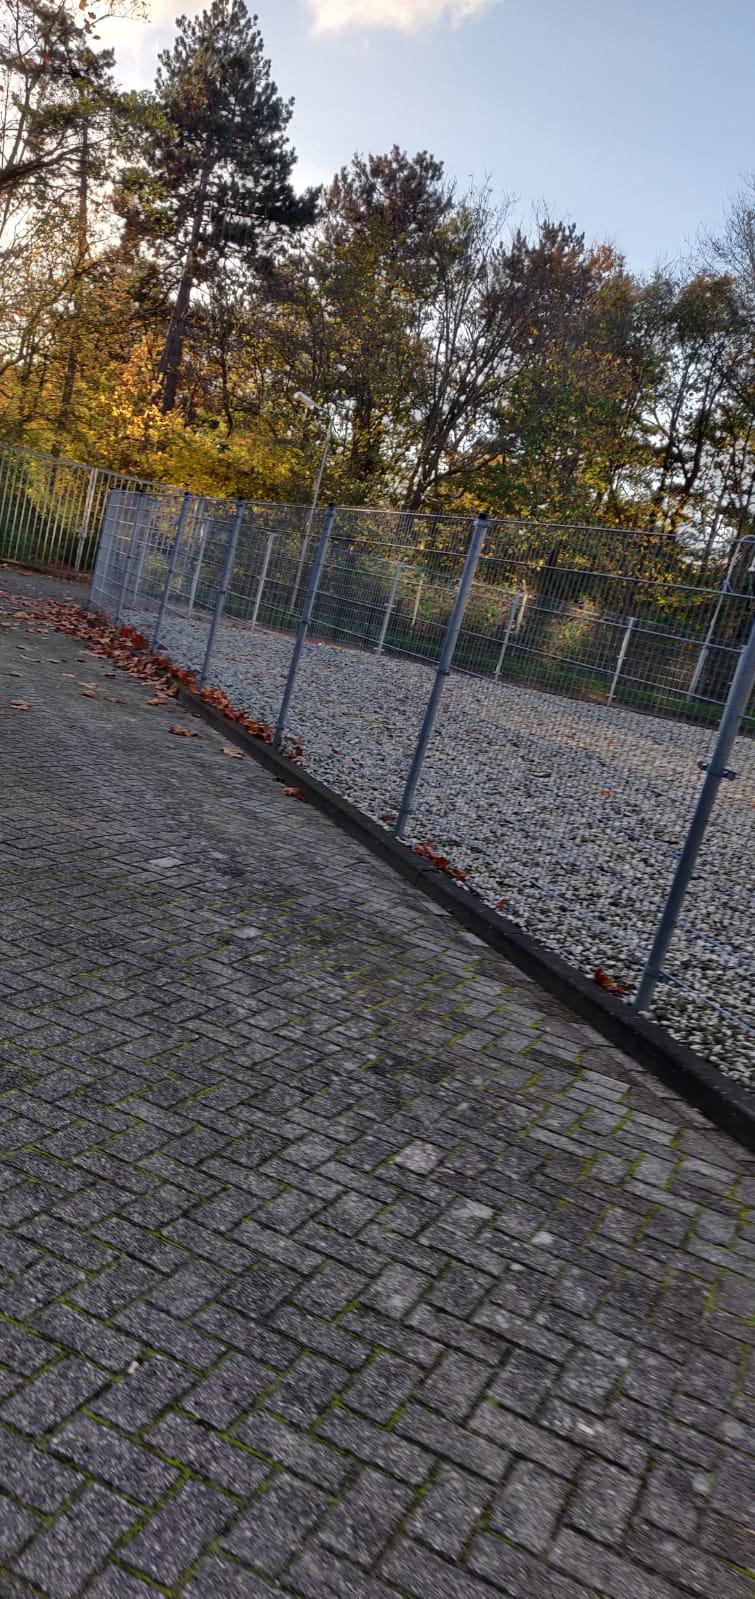obstacle: (0, 597, 755, 1597)
